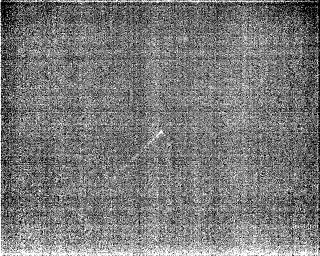AIRPLANE: (104, 130, 166, 177)
